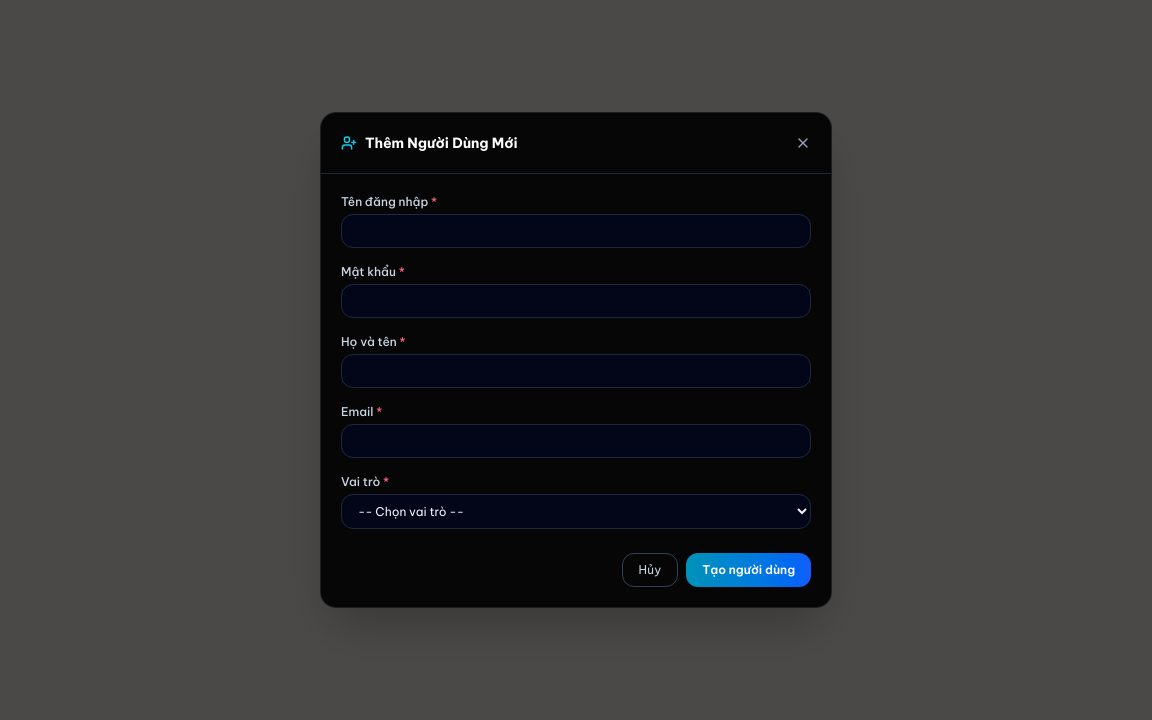
UserFormModal validation and error messages › shows field errors and does not submit an empty form
Click the button "Tạo người dùng": (749, 570) [686,553,811,587]
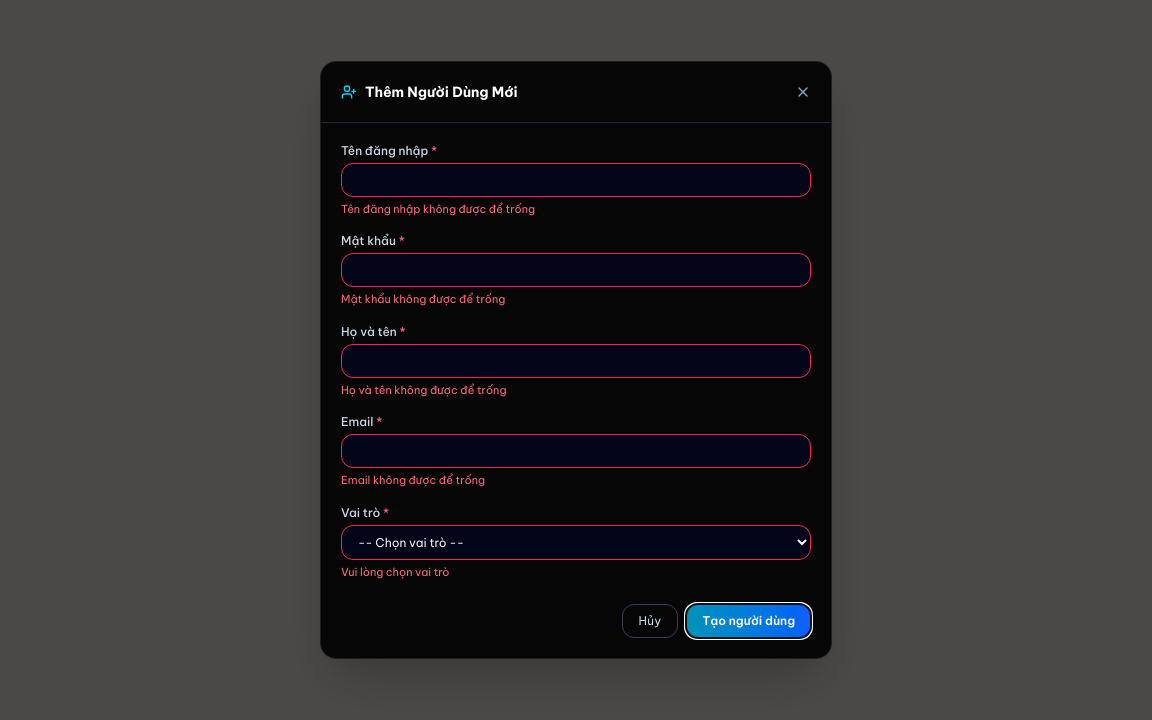
Check: the text "Tên đăng nhập không được để trống" is shown, box [341,202,535,216]
Check: the text "Mật khẩu không được để trống" is shown, box [341,292,505,306]
Check: the text "Họ và tên không được để trống" is shown, box [341,383,506,397]
